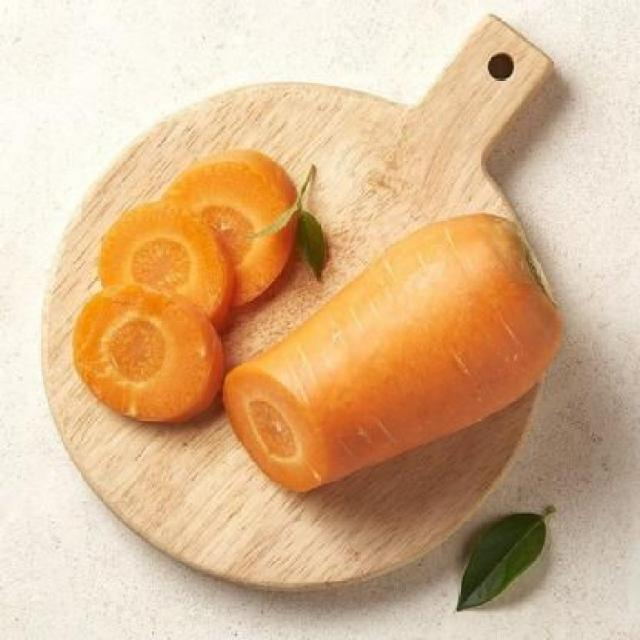carrot: (215, 212, 568, 498)
